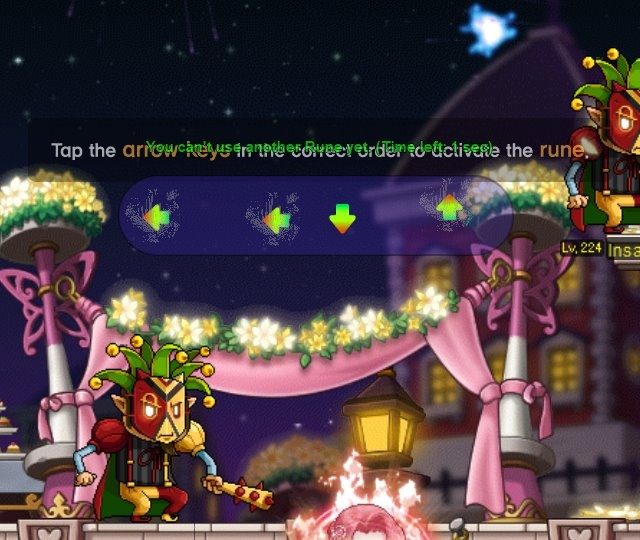rune_box: (107, 166, 524, 265)
